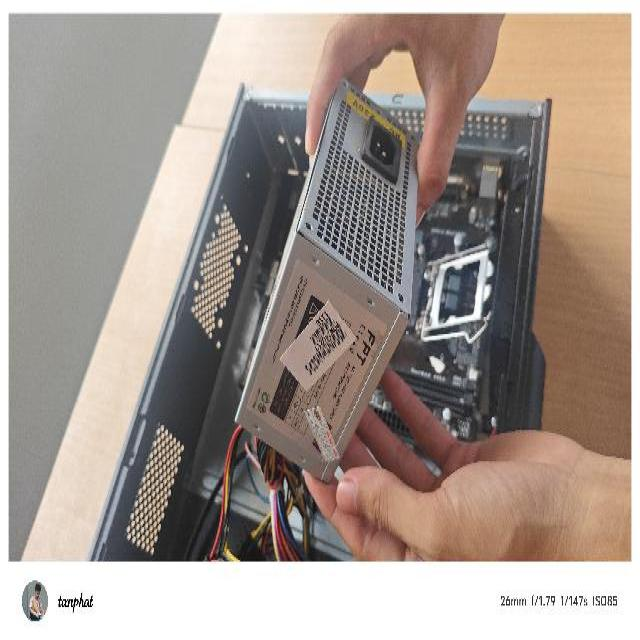PSU: (233, 73, 423, 484)
